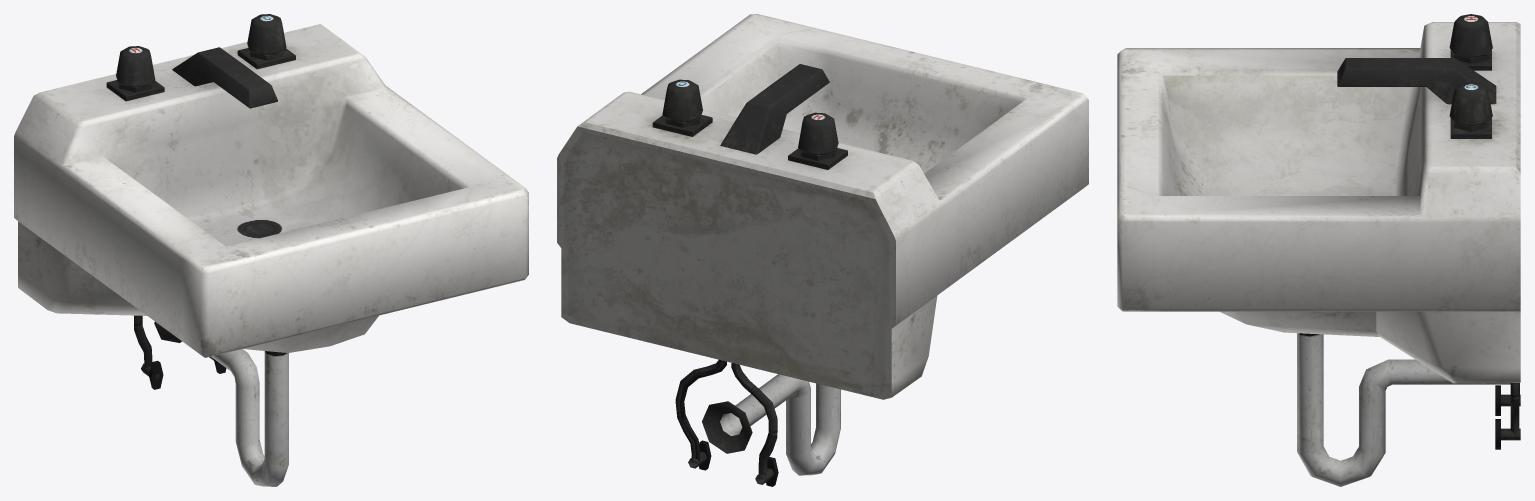
File: Sink.FBX
The picture shows the model from 3 angles, left to right: view 1: azimuth 30°, elevation 25°; view 2: azimuth 150°, elevation 25°; view 3: azimuth 270°, elevation 25°; orthographic projection. The views are drawn at different scales.
Visible parts, largest first — view 1: Sink; view 2: Sink; view 3: Sink.
Boxes of the visible parts, x1,y1,x2,y2 form: Sink: (14, 14, 528, 486); Sink: (557, 14, 1088, 486); Sink: (1117, 14, 1520, 486).
Size of the model in its own units: 40 by 40 by 47.54.
